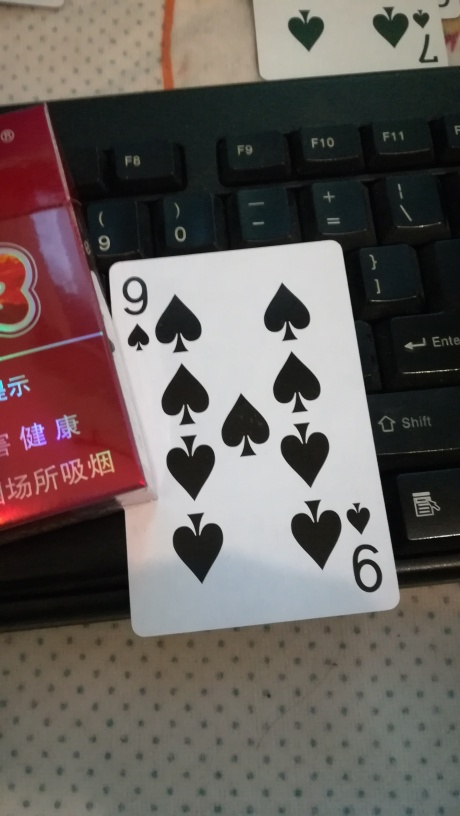ht 9: (100, 238, 405, 638)
